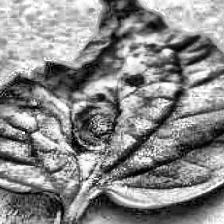disease: (0, 0, 224, 207)
